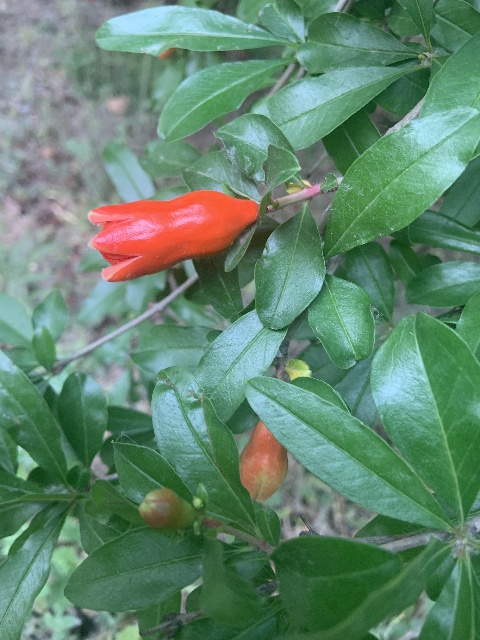bud: (239, 420, 287, 502), (138, 487, 198, 532)
flower: (88, 190, 260, 282)
